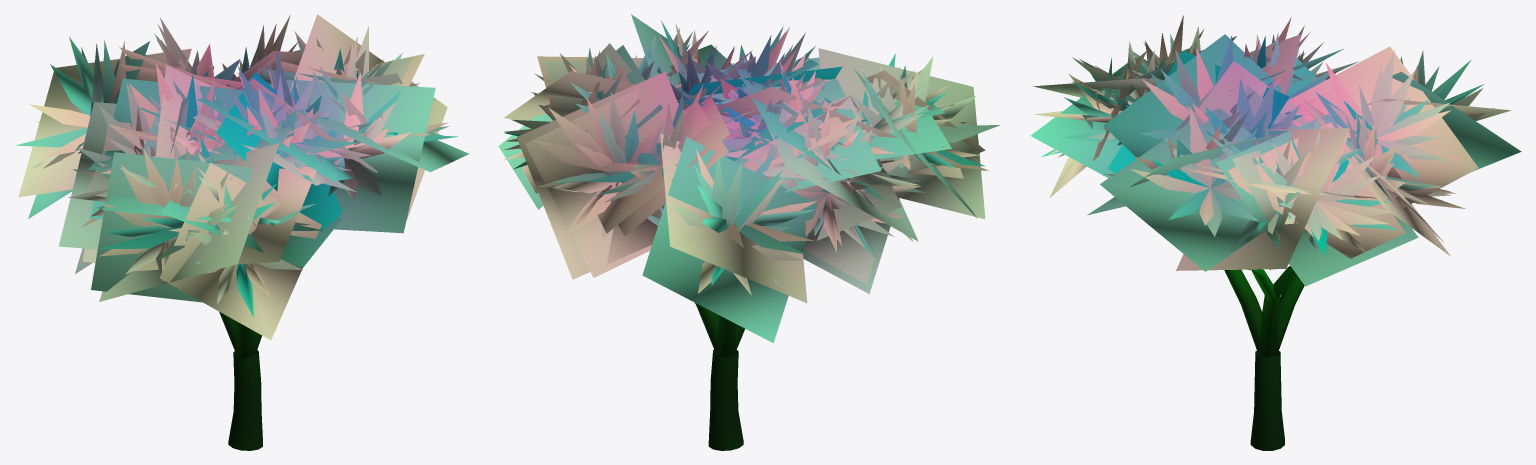
The model's file is frangipani_3.glb.
3 views of the same model, side by side, from view 1: azimuth 30°, elevation 25°; view 2: azimuth 150°, elevation 25°; view 3: azimuth 270°, elevation 25° (orthographic).
Visible parts, largest first — view 1: mid, near; view 2: mid, near; view 3: mid, near.
Boxes of the visible parts, bbox=[...] form: mid: bbox=[18, 14, 468, 358]; near: bbox=[15, 15, 457, 450]; mid: bbox=[498, 14, 985, 358]; near: bbox=[502, 20, 1000, 450]; mid: bbox=[1030, 34, 1521, 357]; near: bbox=[1041, 15, 1493, 450].
Size of the model in its own units: 5.56 by 5.11 by 5.74.
